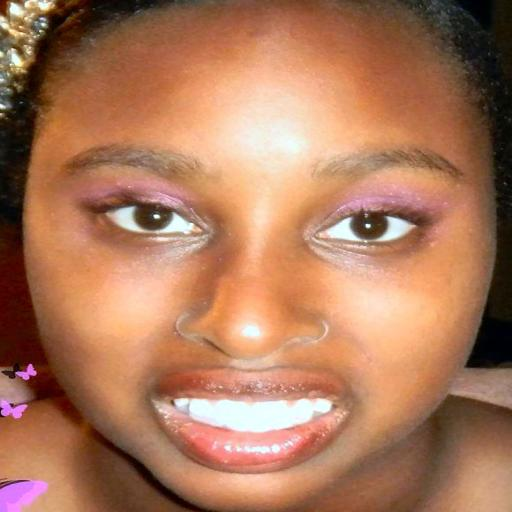Autism: (18, 12, 498, 511)
